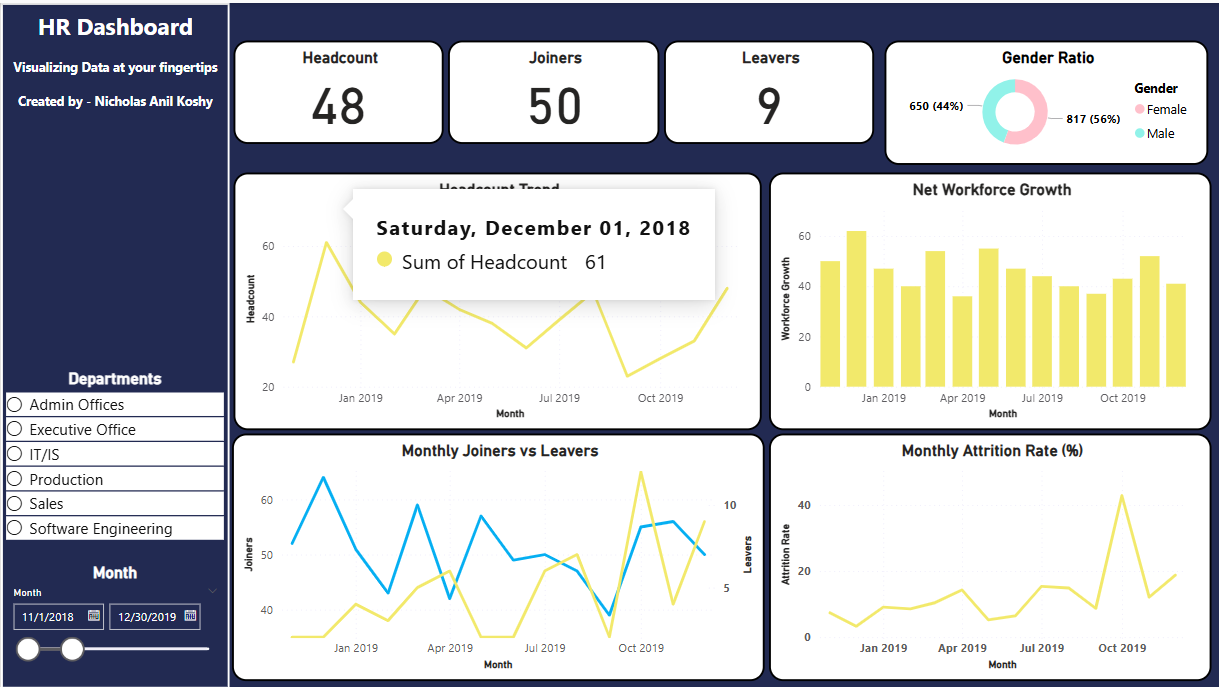

The dashboard page shown, as its layout file describes it:
{"tool":"powerbi","page":{"name":"1","canvas":[1280,720],"ordinal":0},"visuals":[{"type":"textbox","box":[0,0,240,720],"z":0},{"type":"kpi","title":"Headcount","fields":{"Indicator":["Sum(tbl_Attrition.Headcount)"],"TrendLine":["tbl_Attrition.Month"]},"box":[244.1,39.4,220.5,108.7],"z":1000},{"type":"slicer","title":"Month","fields":{"Values":["tbl_Attrition.Month"]},"box":[0,587.5,239.4,122.9],"z":2000},{"type":"lineChart","title":"Monthly Joiners vs Leavers","fields":{"Y":["Sum(tbl_Joiners.Joiners)"],"Category":["tbl_Net Growth.Month"],"Y2":["Sum(tbl_Leavers.Leavers)"]},"box":[242.6,452,559.2,259.9],"z":3000},{"type":"donutChart","title":"Gender Ratio","fields":{"Category":["tbl_Gender_Count.GenderCode"],"Y":["Sum(tbl_Gender_Count.Gender_Count)"]},"box":[927.7,39.4,340.2,130.7],"z":4000},{"type":"listSlicer","title":"Departments","fields":{"Values":["tbl_Department-wise Count.DepartmentType"]},"box":[0,384.3,239.4,237.8],"z":5000},{"type":"lineChart","title":"Monthly Attrition Rate (%)","fields":{"Category":["tbl_Attrition.Month"],"Y":["Sum(tbl_Attrition.Attrition_Rate)"]},"box":[806.4,452,464.6,259.9],"z":6000},{"type":"kpi","title":"Joiners","fields":{"Indicator":["Sum(tbl_Joiners.Joiners)"],"TrendLine":["tbl_Net Growth.Month"]},"box":[469.4,39.4,222.1,108.7],"z":7000},{"type":"kpi","title":"Leavers","fields":{"Indicator":["Sum(tbl_Leavers.Leavers)"],"TrendLine":["tbl_Net Growth.Month"]},"box":[696.2,39.4,220.5,108.7],"z":8000},{"type":"lineChart","title":"Headcount Trend","fields":{"Category":["tbl_Monthly_Headcount.Month.Variation.Date Hierarchy.Year"],"Y":["Sum(tbl_Attrition.Headcount)"]},"box":[244.1,178,554.4,270.9],"z":9000},{"type":"clusteredColumnChart","title":"Net Workforce Growth","fields":{"Y":["Sum(tbl_Net Growth.Net_Growth)"],"Category":["tbl_Net Growth.Month"]},"box":[806.4,178,464.6,270.9],"z":10000}]}

Visuals, with their boxes in screenshot pixels (x1, y1, x2, y2), scaled from the page's 1280x720 canvas onto the 1219x687 screenshot:
textbox: crop(0, 0, 229, 686)
"Headcount" kpi: crop(232, 38, 442, 141)
"Month" slicer: crop(0, 561, 228, 678)
"Monthly Joiners vs Leavers" lineChart: crop(231, 431, 764, 679)
"Gender Ratio" donutChart: crop(883, 38, 1207, 162)
"Departments" listSlicer: crop(0, 367, 228, 594)
"Monthly Attrition Rate (%)" lineChart: crop(768, 431, 1210, 679)
"Joiners" kpi: crop(447, 38, 659, 141)
"Leavers" kpi: crop(663, 38, 873, 141)
"Headcount Trend" lineChart: crop(232, 170, 760, 428)
"Net Workforce Growth" clusteredColumnChart: crop(768, 170, 1210, 428)
